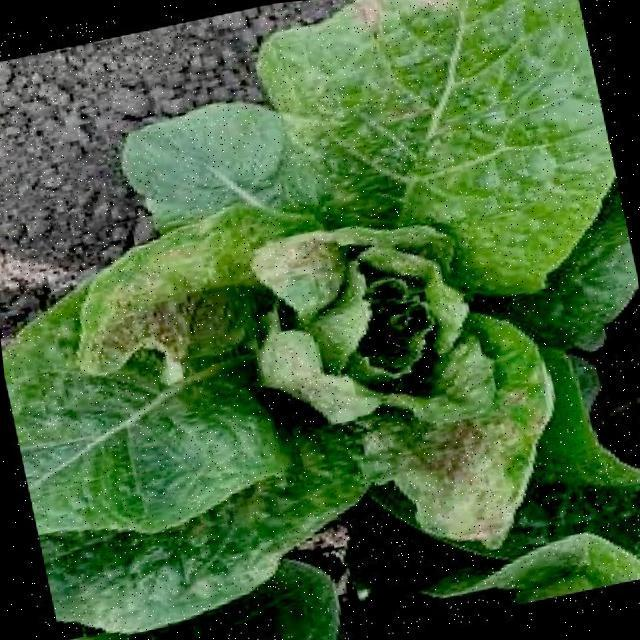Lettuce Mosaic Virus: (83, 165, 588, 610)
